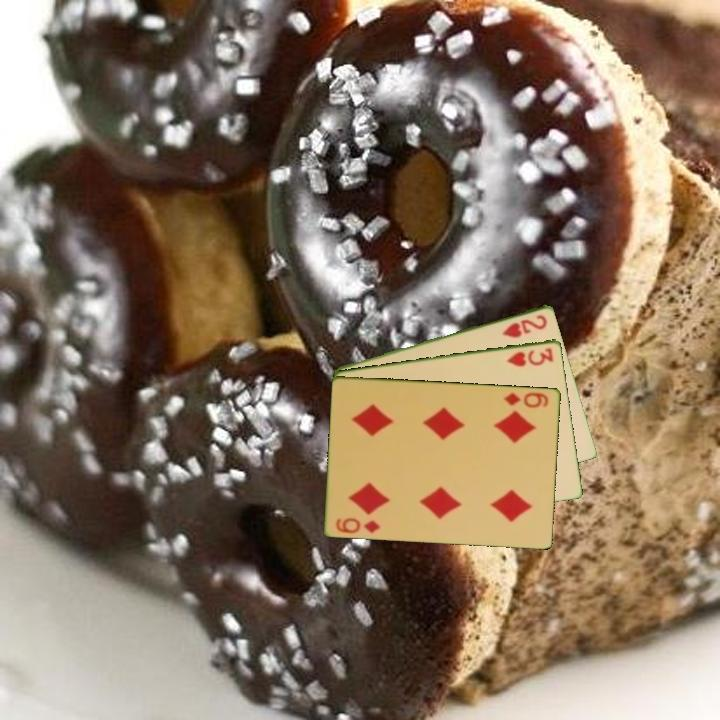2h: (498, 311, 550, 340)
3h: (503, 344, 556, 369)
6d: (500, 388, 551, 410), (333, 514, 384, 536)
